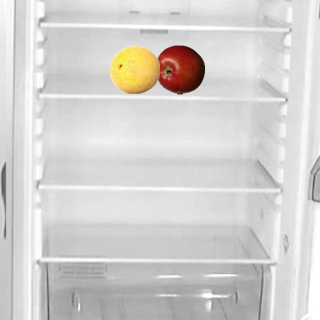Apple Braeburn: (154, 44, 204, 94)
Cantaloupe 1: (109, 44, 159, 94)
